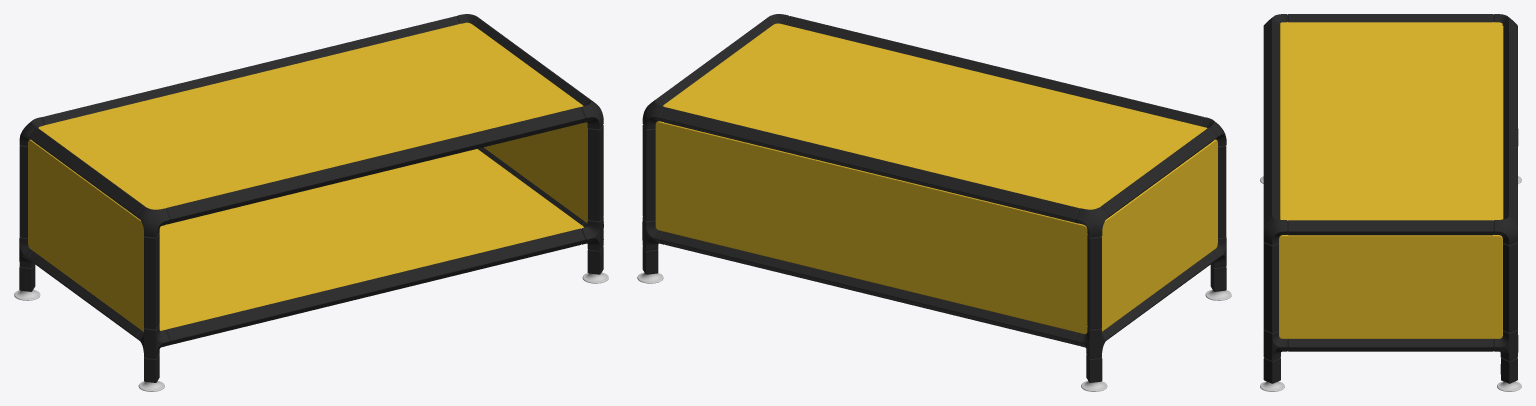
3 views of the same model, side by side, from view 1: azimuth 30°, elevation 25°; view 2: azimuth 150°, elevation 25°; view 3: azimuth 270°, elevation 25° (orthographic). The views are drawn at different scales.
Visible parts, largest first — view 1: 729x329x154; view 2: 729x329x154; view 3: 729x329x154.
Boxes of the visible parts, x1=… form: 729x329x154: x1=14, y1=14, x2=608, y2=391; 729x329x154: x1=637, y1=14, x2=1231, y2=391; 729x329x154: x1=1260, y1=14, x2=1521, y2=391.
Size of the model in its own units: 0.8189 by 0.2933 by 0.4181.
